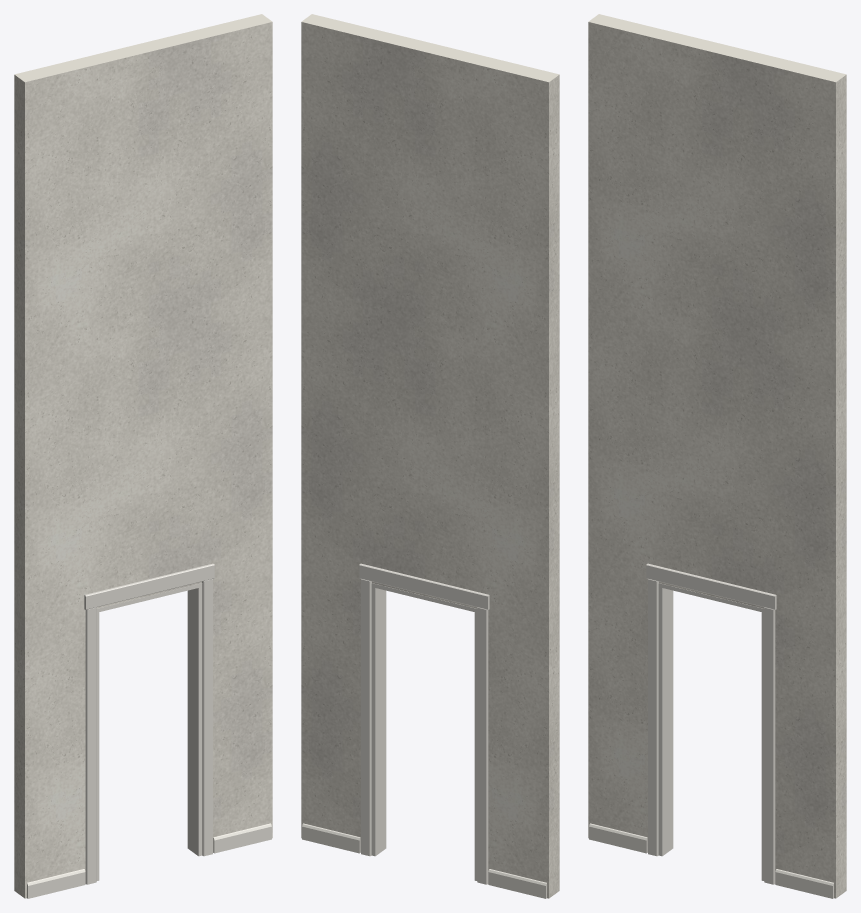
The picture shows the model from 3 angles, left to right: view 1: azimuth 30°, elevation 25°; view 2: azimuth 150°, elevation 25°; view 3: azimuth 330°, elevation 25°; orthographic projection.
Parts seen in each view (by area): view 1: pw_200_100_86_plaster, pw_200_100_86_frame, pw_200_100_86_trim; view 2: pw_200_100_86_plaster, pw_200_100_86_frame, pw_200_100_86_trim; view 3: pw_200_100_86_plaster, pw_200_100_86_frame, pw_200_100_86_trim.
Boxes of the visible parts, box(x1,y1,x2,y2) form: pw_200_100_86_plaster: box(14, 14, 272, 898); pw_200_100_86_frame: box(84, 563, 214, 884); pw_200_100_86_trim: box(27, 823, 271, 898); pw_200_100_86_plaster: box(301, 14, 559, 898); pw_200_100_86_frame: box(359, 563, 489, 884); pw_200_100_86_trim: box(302, 823, 546, 898); pw_200_100_86_plaster: box(588, 14, 846, 898); pw_200_100_86_frame: box(646, 563, 776, 884); pw_200_100_86_trim: box(589, 823, 833, 898).
Bounding box in the file's own units: 2 × 6.3 × 0.19.
Materials: 3 (1 with a texture image).
